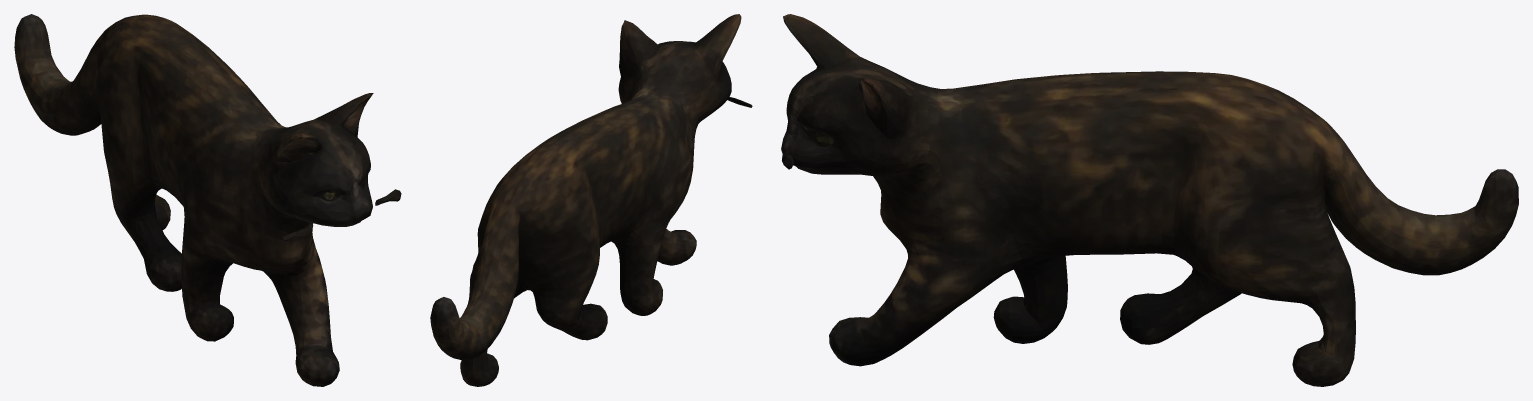
The picture shows the model from 3 angles, left to right: view 1: azimuth 30°, elevation 25°; view 2: azimuth 150°, elevation 25°; view 3: azimuth 270°, elevation 25°; orthographic projection. The views are drawn at different scales.
Parts seen in each view (by area): view 1: geometry_0; view 2: geometry_0; view 3: geometry_0.
Part boxes in pixels (x1,y1,x2,y2): geometry_0: (14, 14, 401, 386); geometry_0: (430, 14, 752, 386); geometry_0: (781, 14, 1518, 386).
Size of the model in its own units: 0.2181 by 0.489 by 0.9998.
Materials: 1 (1 with a texture image).
